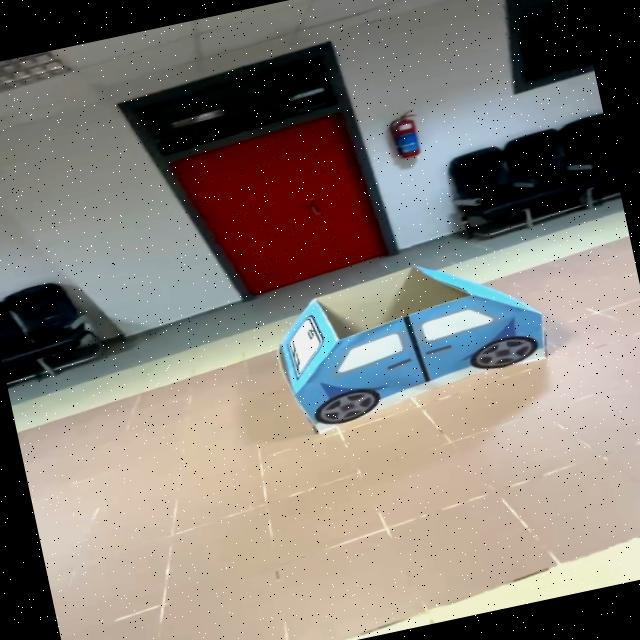blue_car: (252, 222, 598, 459)
